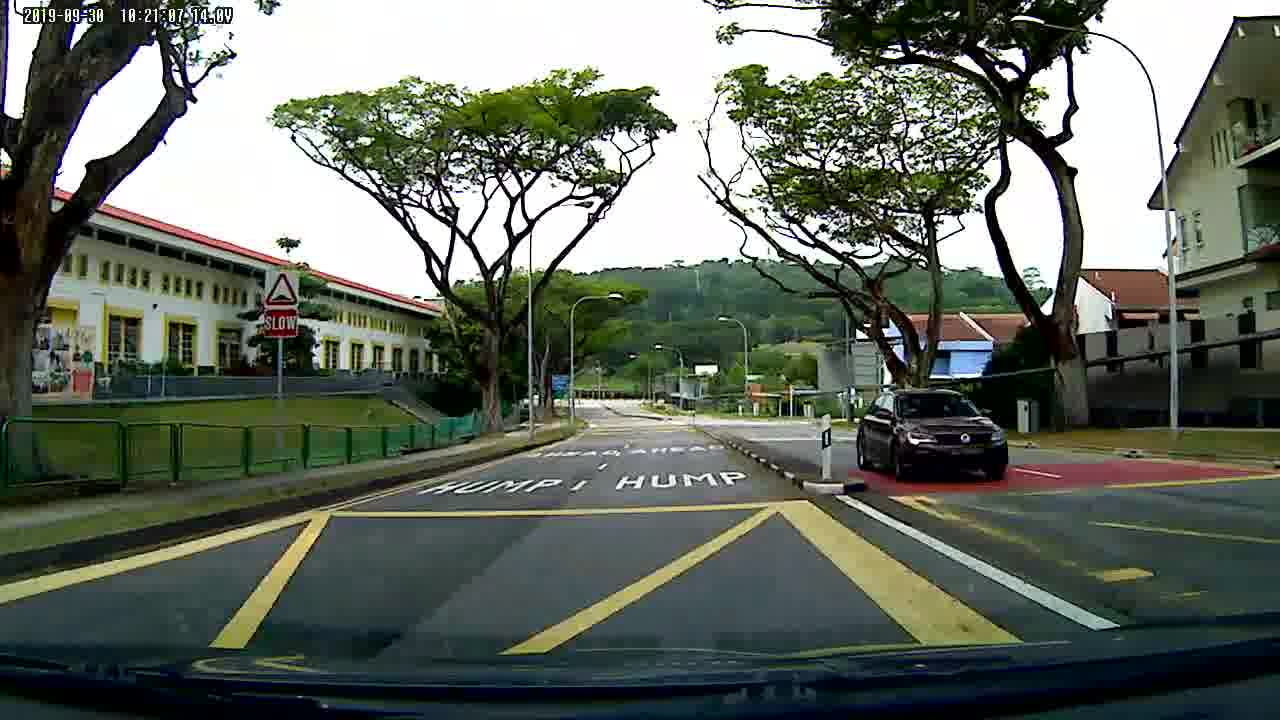car: (856, 391, 1008, 483)
